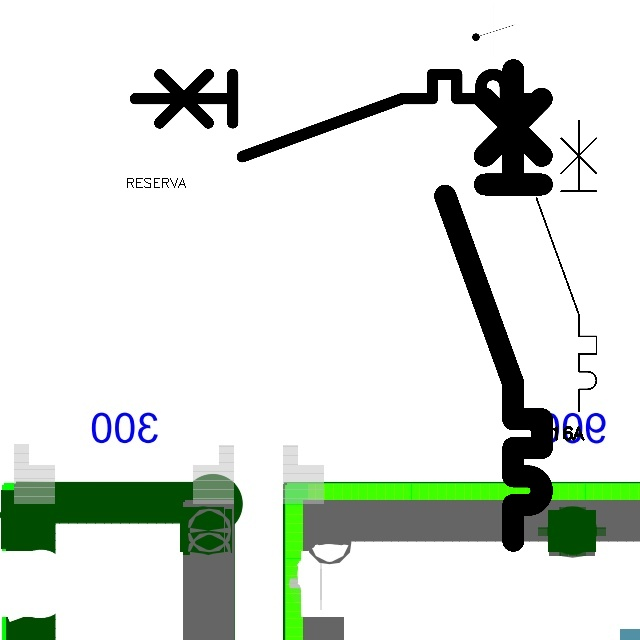interruptor_termomagnetico: (433, 58, 554, 553), (125, 64, 546, 167), (529, 113, 604, 419)
